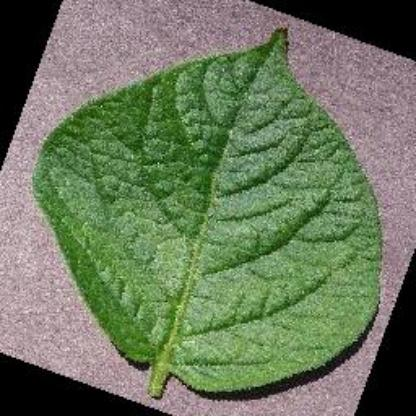Healthy-plant: (27, 27, 388, 406)
